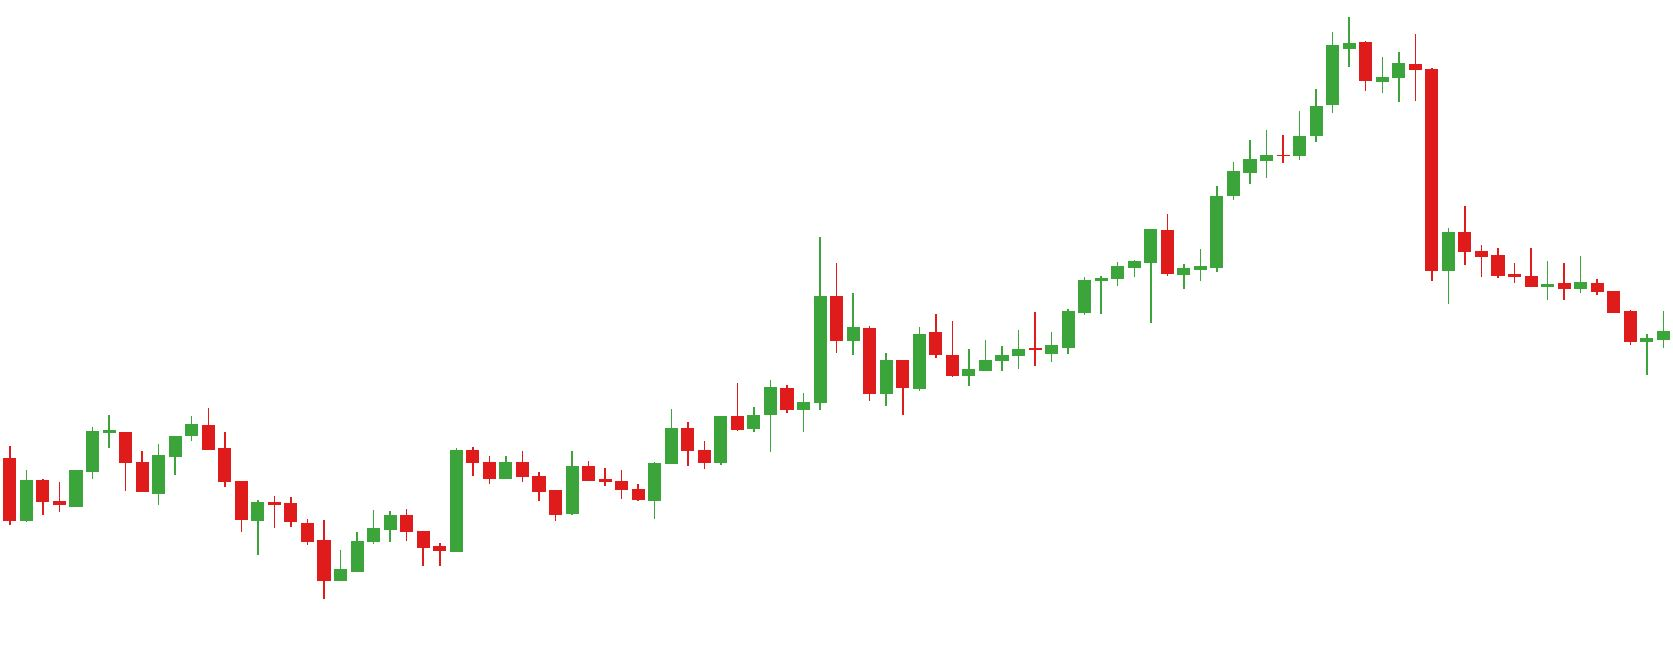buy: (248, 508, 366, 603)
sell: (103, 413, 217, 481)
